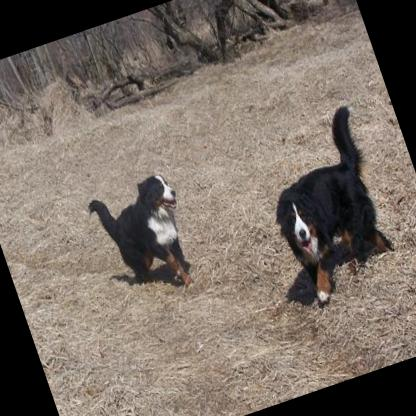Bernese_mountain_dog: (246, 103, 406, 311), (82, 167, 206, 311)
